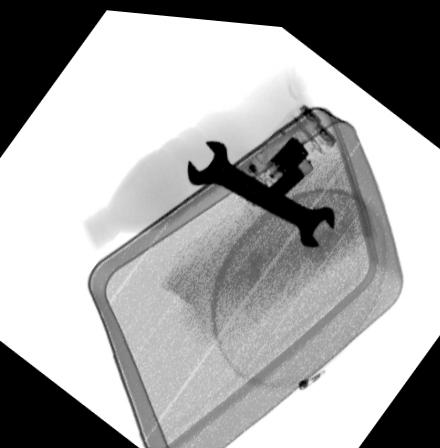Wrench: (183, 133, 335, 243)
